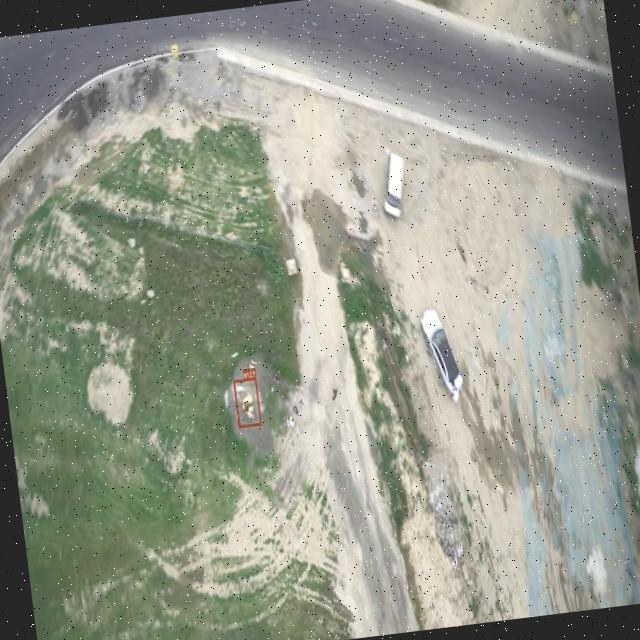fire: (233, 377, 262, 428)
